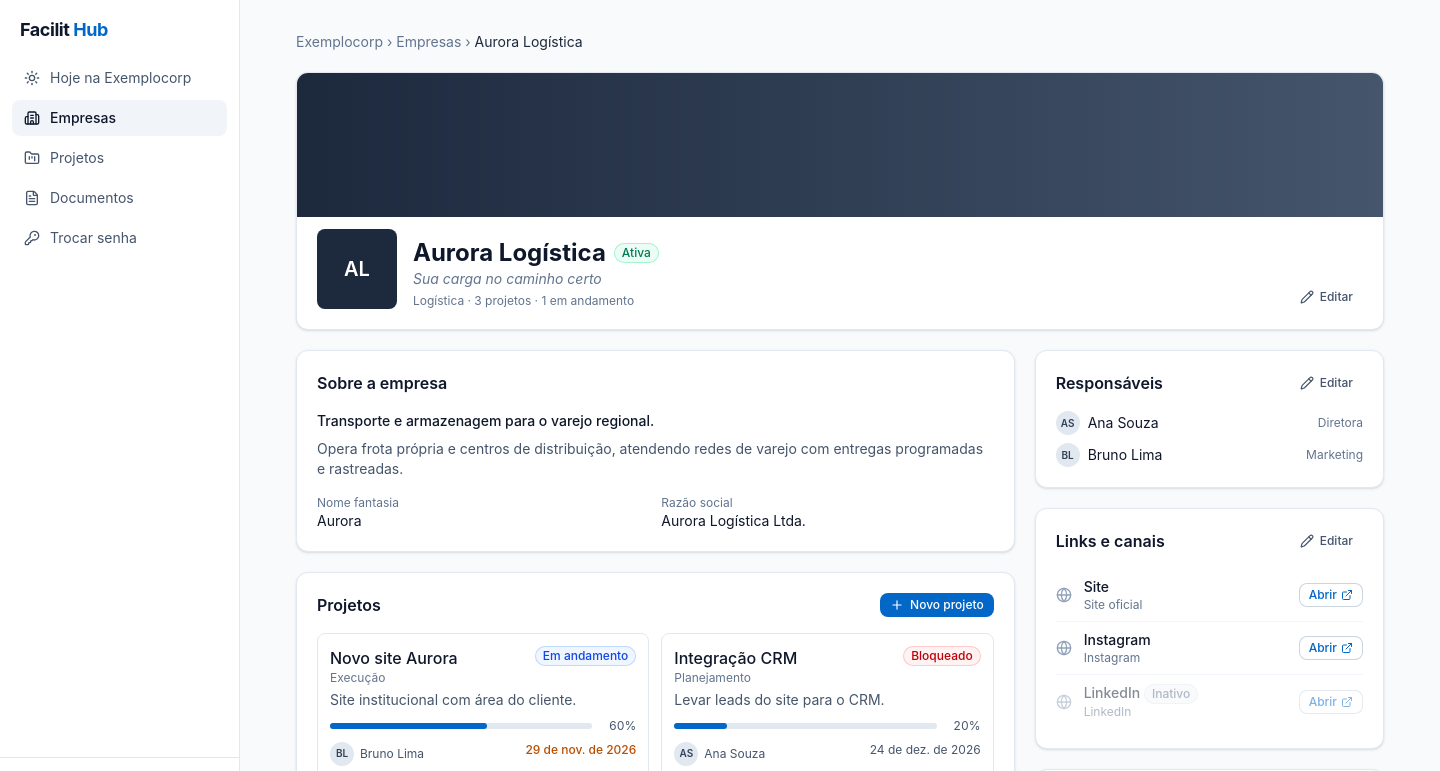
Scenario: ambiente da empresa › avisa quando outra pessoa salvou antes (409)
Expected: the heading "Aurora Logística" is shown, [413,237,606,269]
Click the button "Editar" next to "Responsáveis".
click(1326, 383)  # box [1290,371,1363,395]
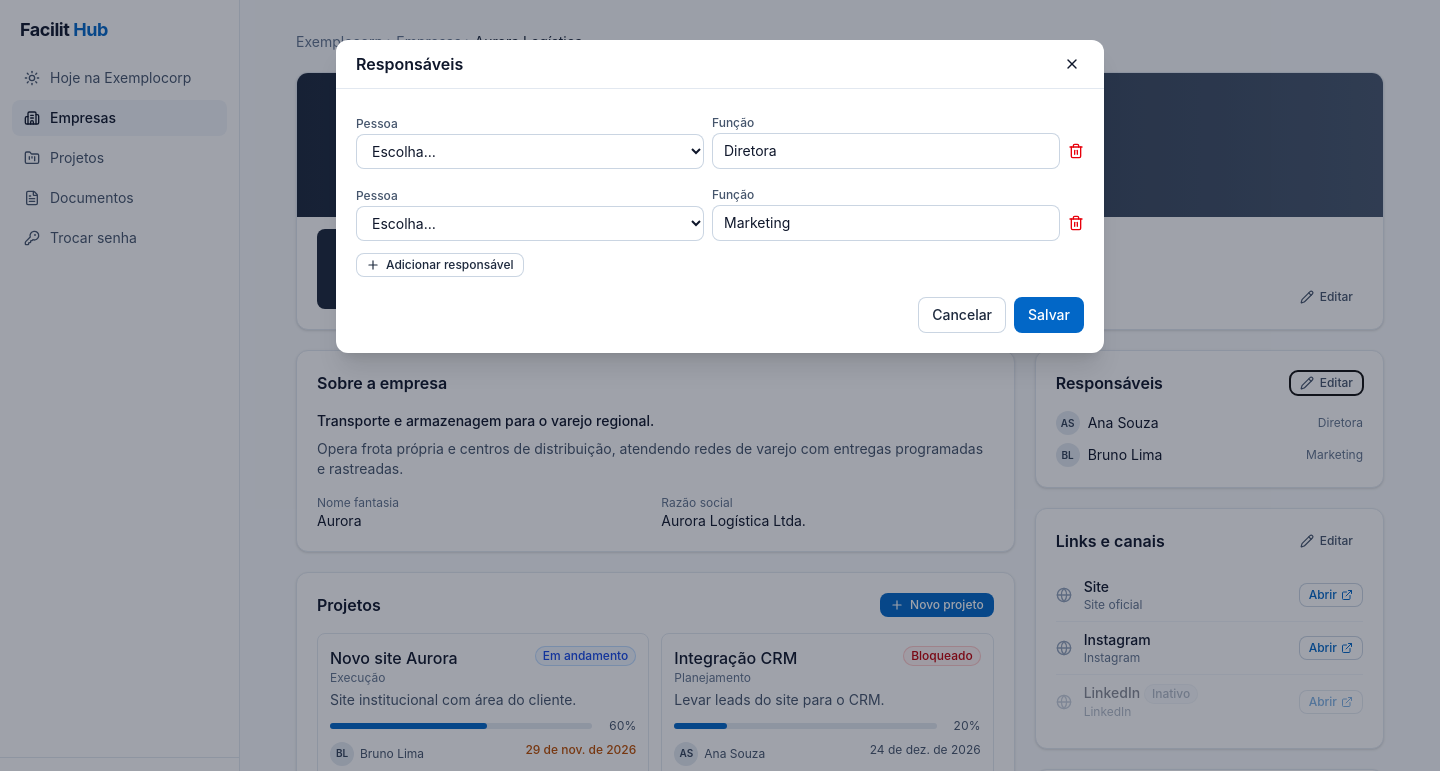
Click the button "Salvar".
click(1049, 315)  # box [1014,297,1084,333]
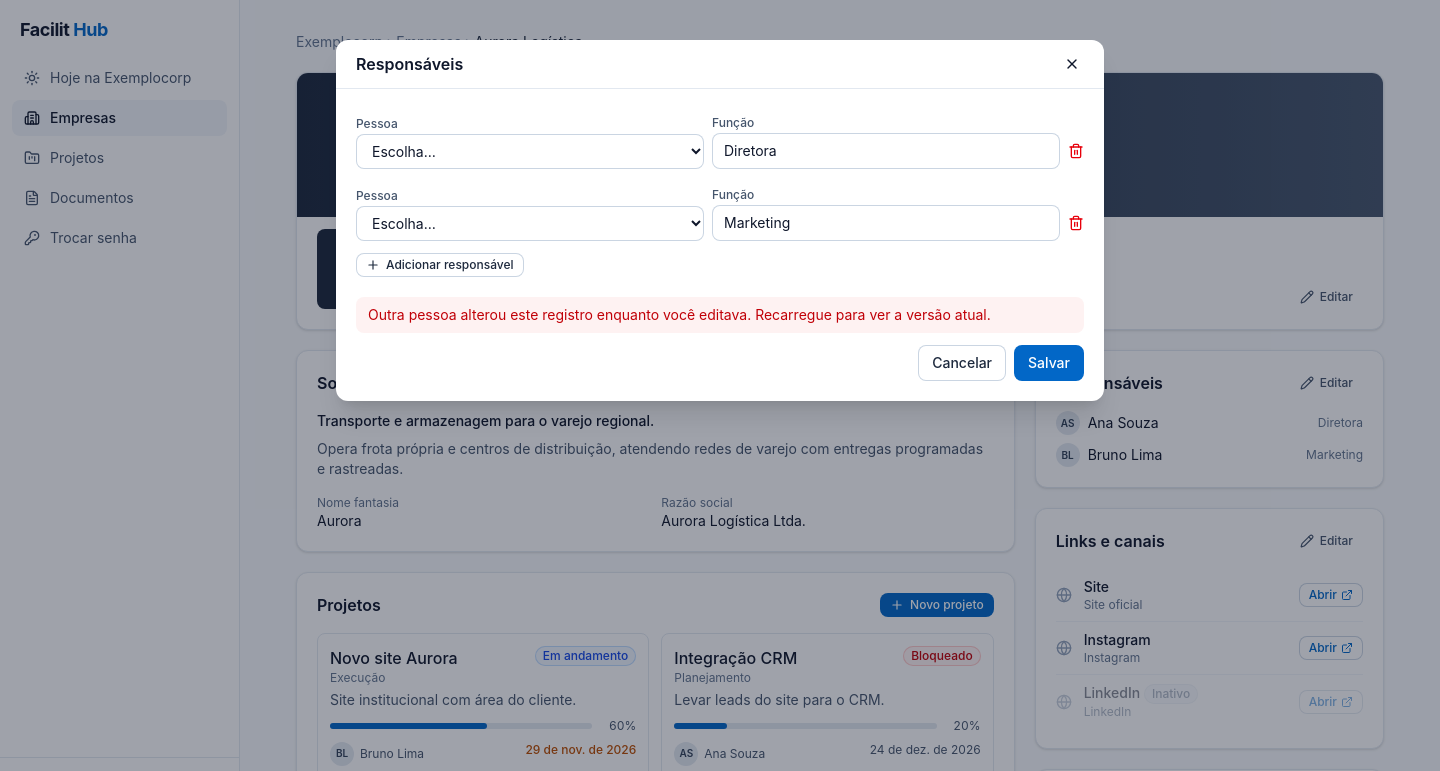
Now the message shows "Outra pessoa alterou", box [368,306,991,323]
